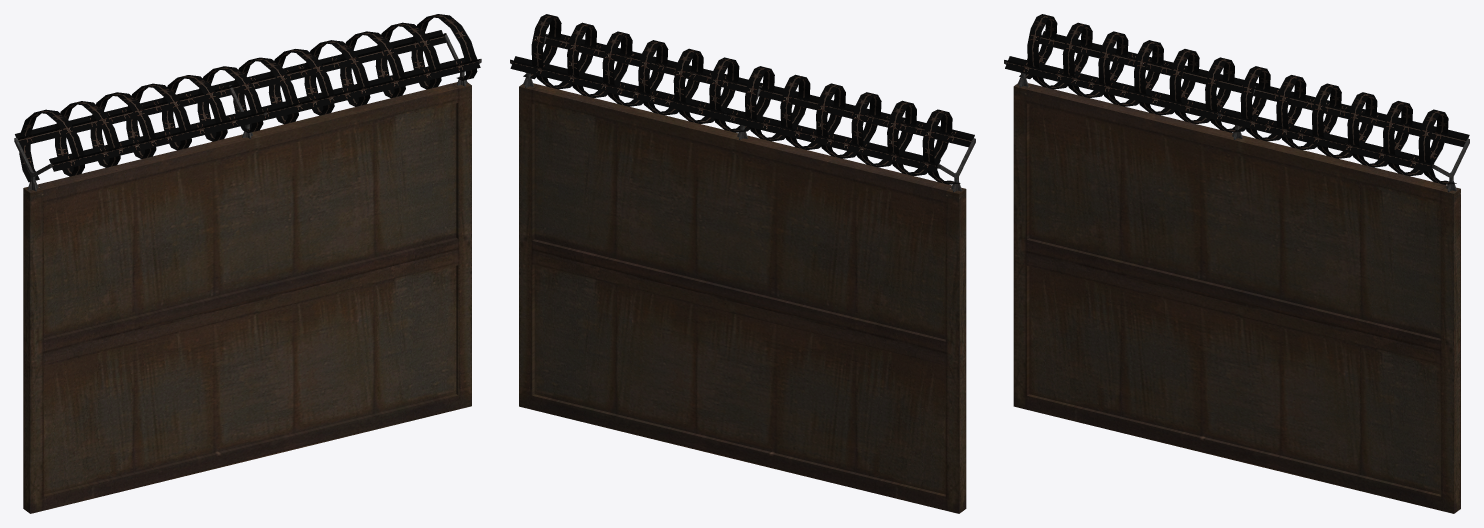
The model's file is metal_fence_hr_2.obj.
3 renders of one model, left to right at view 1: azimuth 30°, elevation 25°; view 2: azimuth 150°, elevation 25°; view 3: azimuth 330°, elevation 25°, orthographic.
Visible parts, largest first — view 1: metal_fence_hr_2; view 2: metal_fence_hr_2; view 3: metal_fence_hr_2.
Part boxes in pixels (x1,y1,x2,y2): metal_fence_hr_2: [14, 14, 481, 513]; metal_fence_hr_2: [510, 14, 975, 513]; metal_fence_hr_2: [1004, 14, 1469, 513].
Bounding box in the file's own units: 3.6 × 3.06 × 0.5551.
